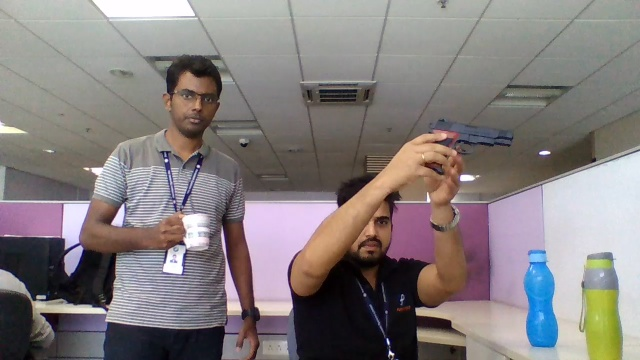gun: (445, 127, 514, 149)
